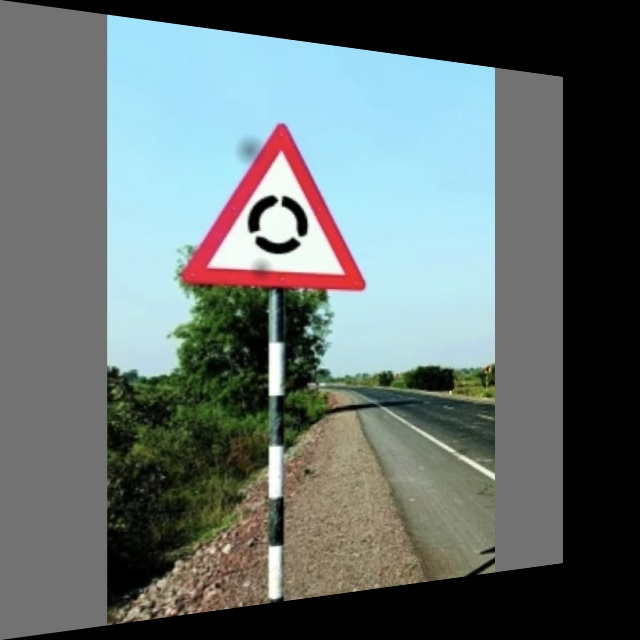Round_About: (175, 110, 376, 294)
